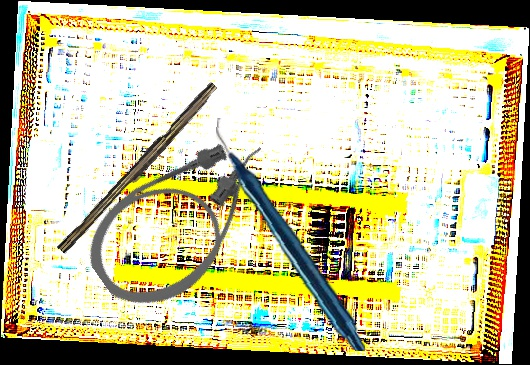Cannula: (69, 116, 303, 327)
Handpiece: (205, 117, 377, 352)
Scalpel Handle: (56, 79, 222, 259)
